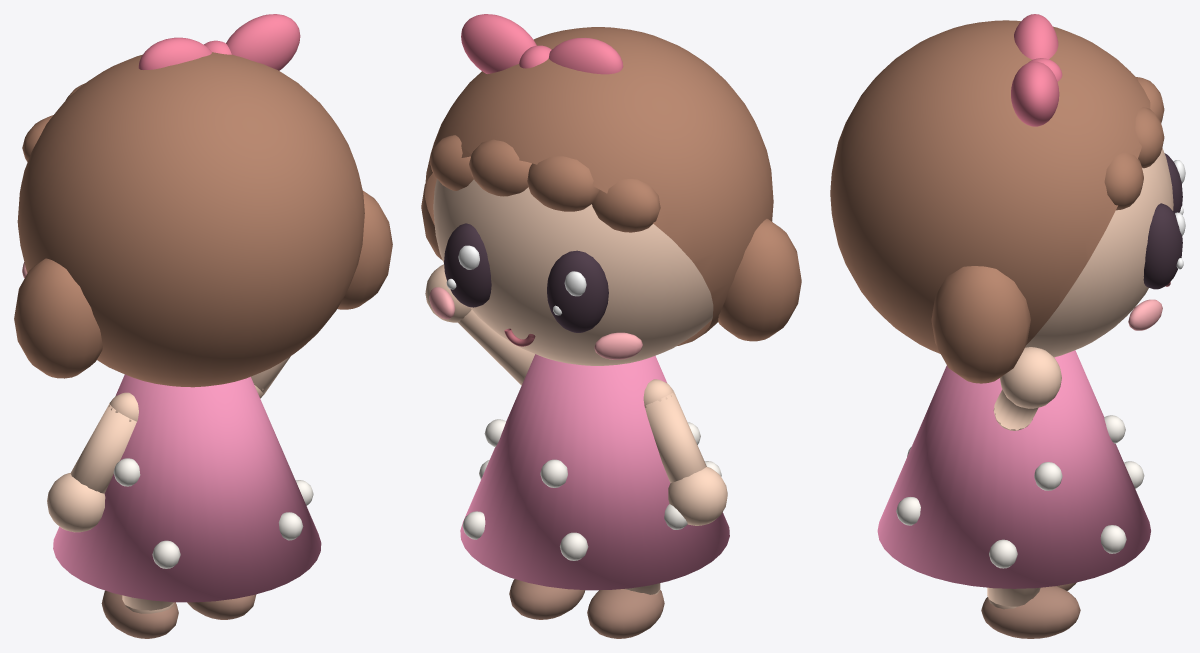
The model's file is girl.glb.
3 renders of one model, left to right at view 1: azimuth 30°, elevation 25°; view 2: azimuth 150°, elevation 25°; view 3: azimuth 270°, elevation 25°, orthographic.
Parts seen in each view (by area): view 1: Girl; view 2: Girl; view 3: Girl.
Boxes of the visible parts, x1,y1,x2,y2 form: Girl: (14,14,392,638); Girl: (421,14,801,638); Girl: (830,14,1185,638).
Size of the model in its own units: 1.04 by 1.58 by 0.8573.
